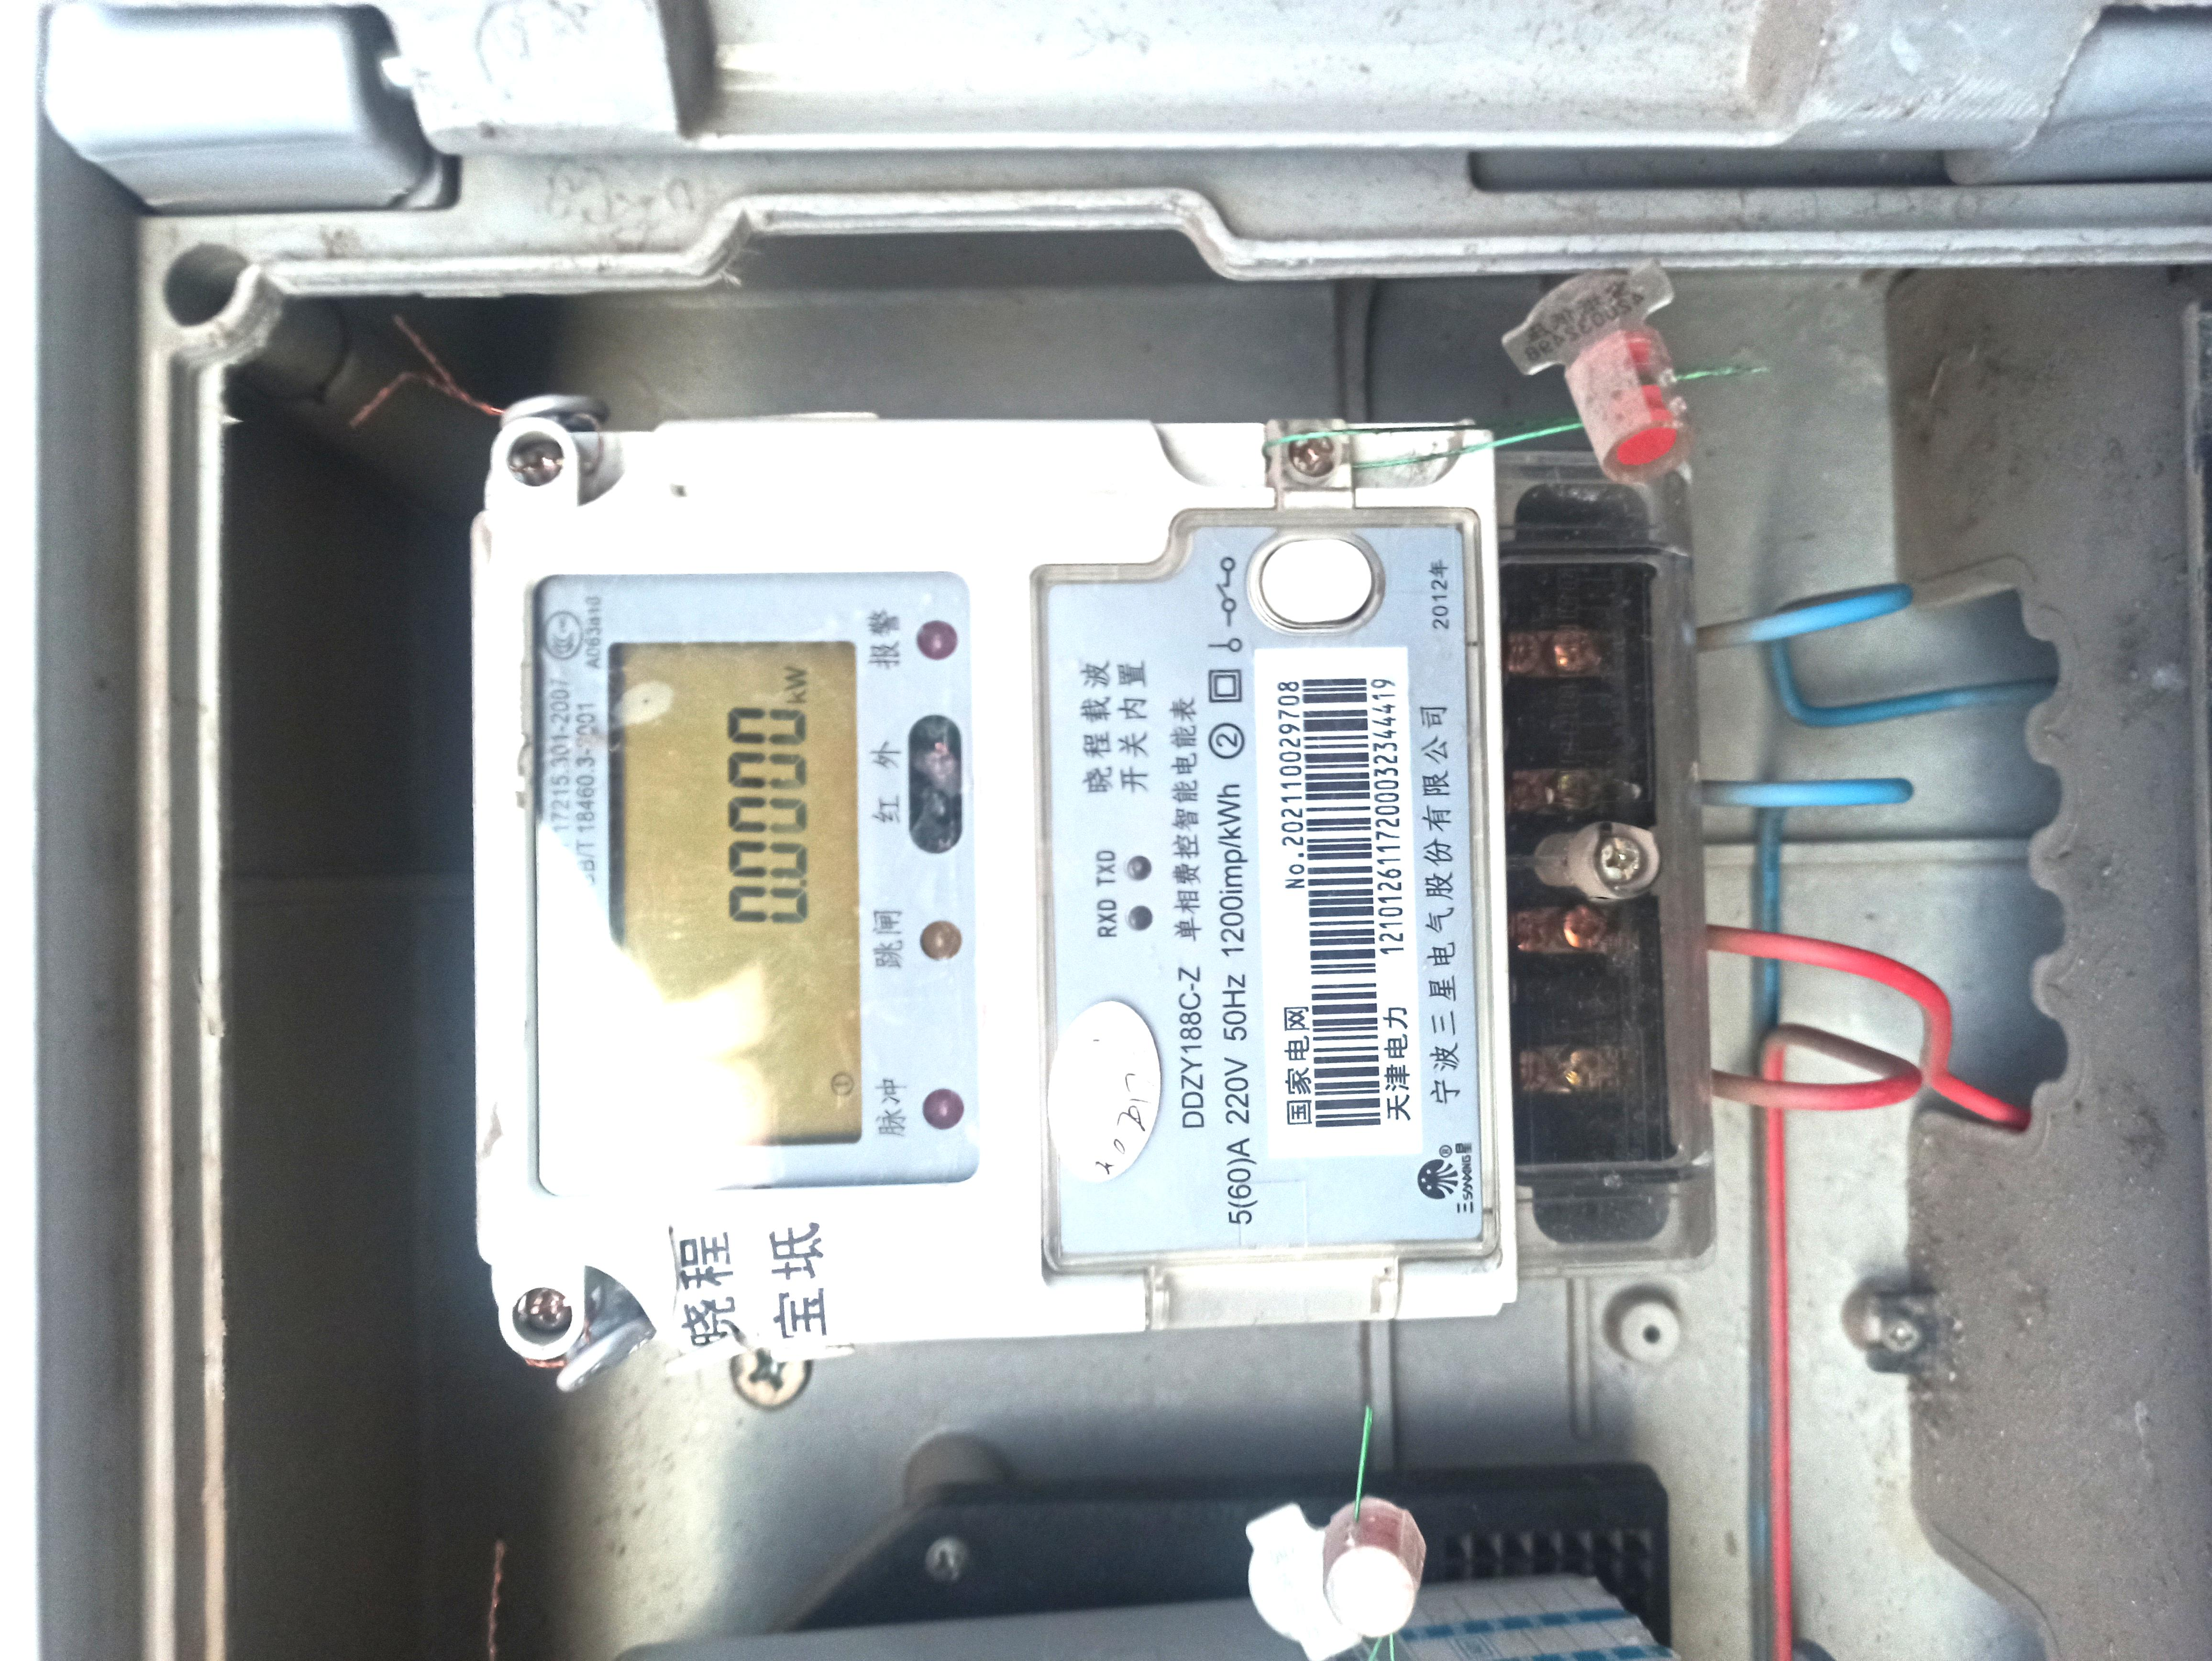digital: (474, 410, 1518, 1324)
